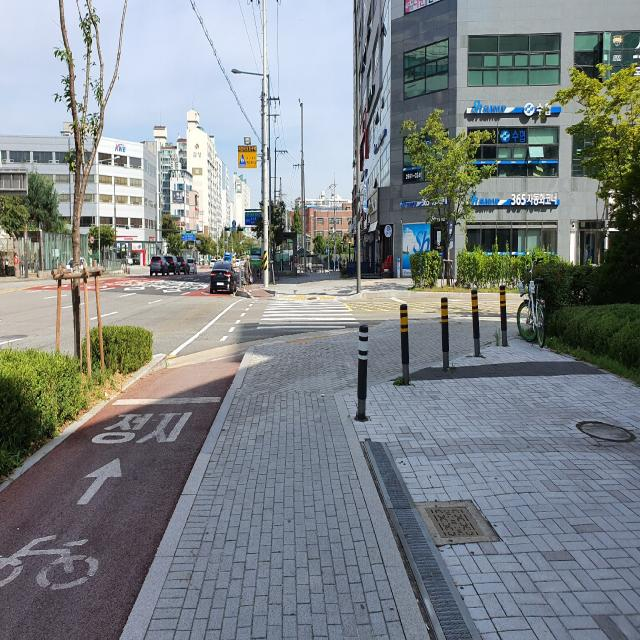횡단보도: (256, 300, 361, 330)
